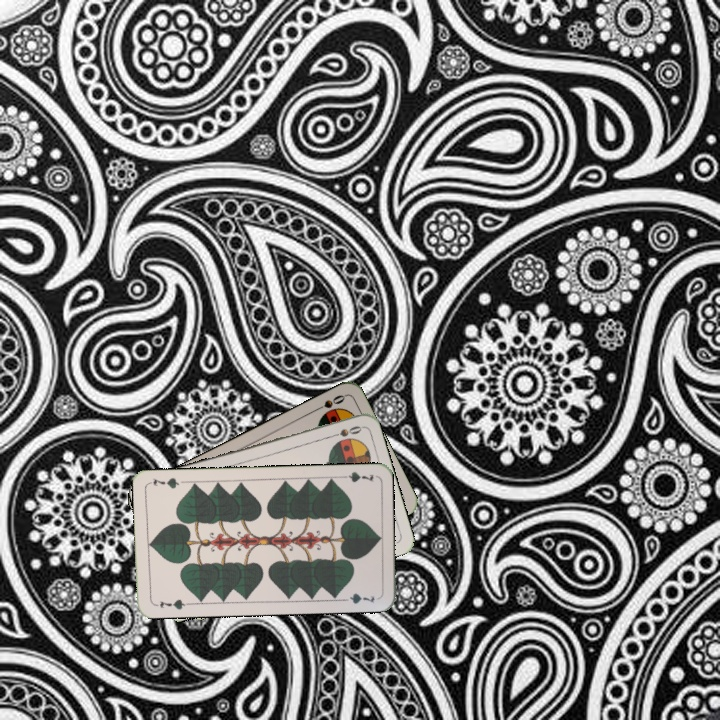G7: (336, 468, 376, 485), (156, 596, 191, 612)
SO: (309, 391, 348, 415), (324, 422, 364, 441)
